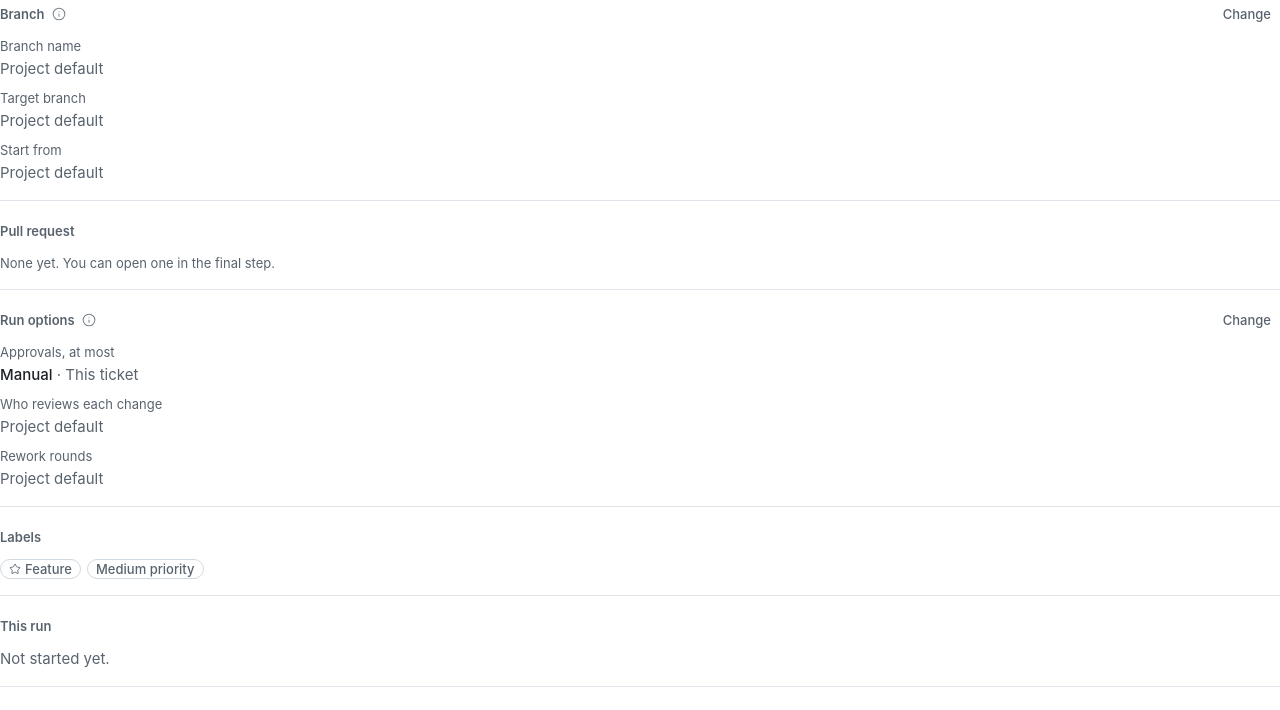
Test case: ticket page: Run options (RL-H) › changes them with PATCH: back to the project default is null
Click the button with aria-label "Change run options" at (1247, 320), box [1214,306,1279,334]
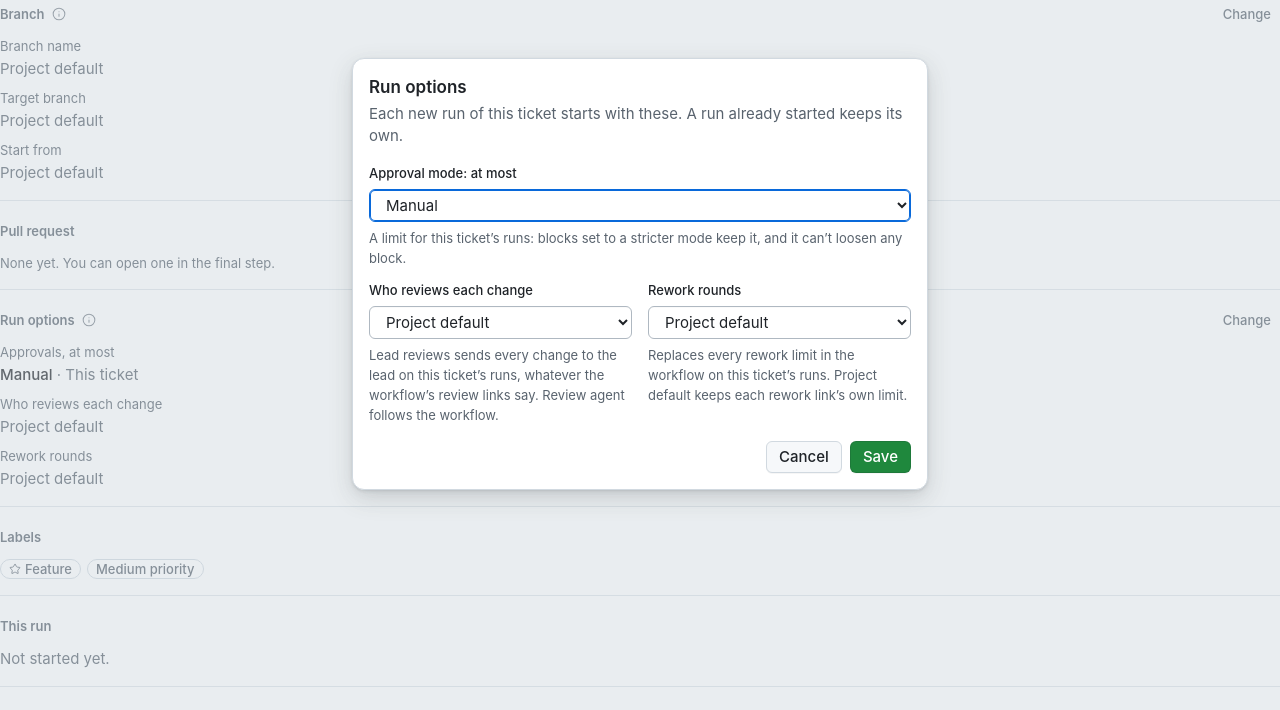
Expected: the dropdown labelled "Approval mode: at most" shows "Manual"
Select "No limit: each block’s own mode" in the dropdown labelled "Approval mode: at most" at (640, 205), box [369,189,911,222]
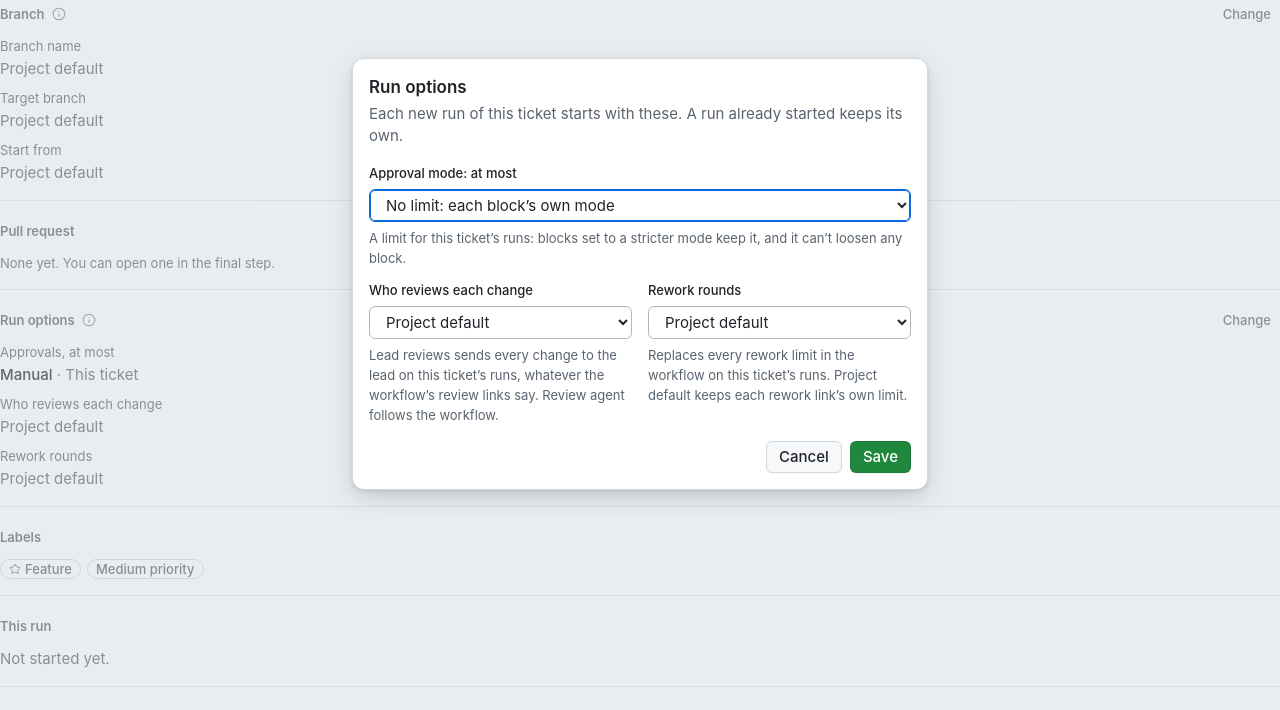
Select "3 rework rounds" in the dropdown labelled "Rework rounds" at (780, 322), box [648,306,911,339]
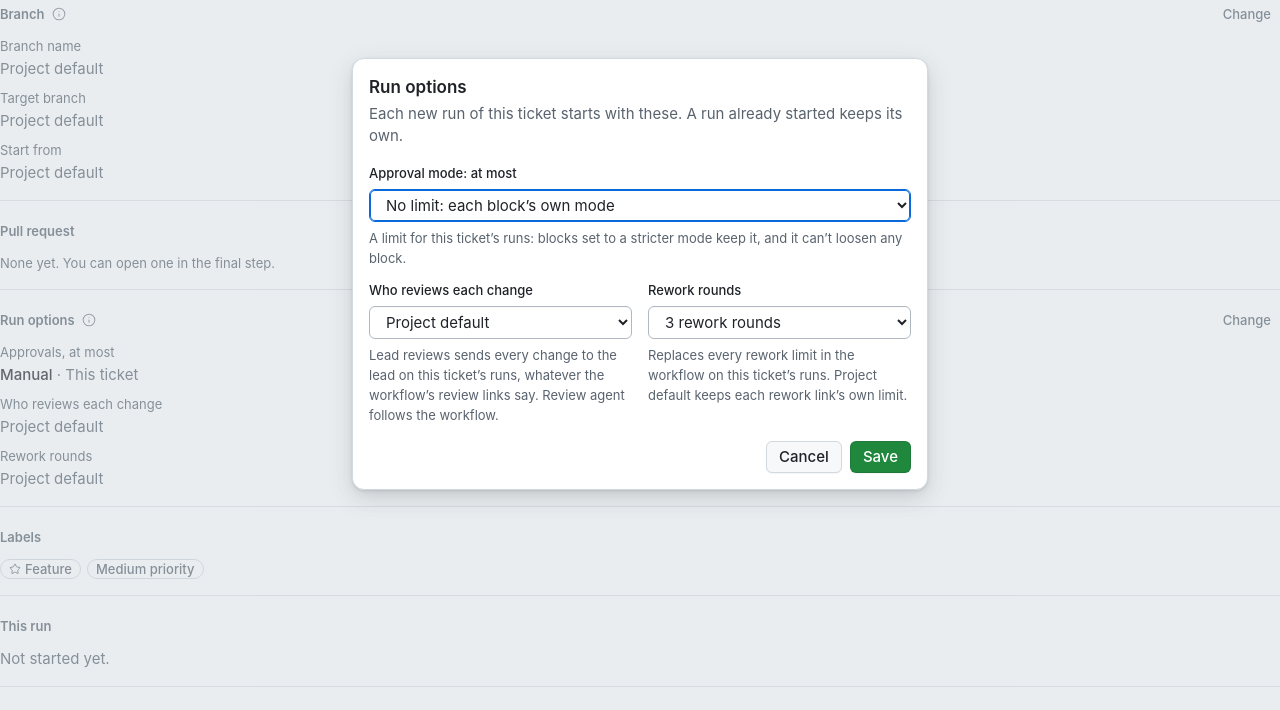
Click the button "Save" at (880, 457), box [850,441,911,473]
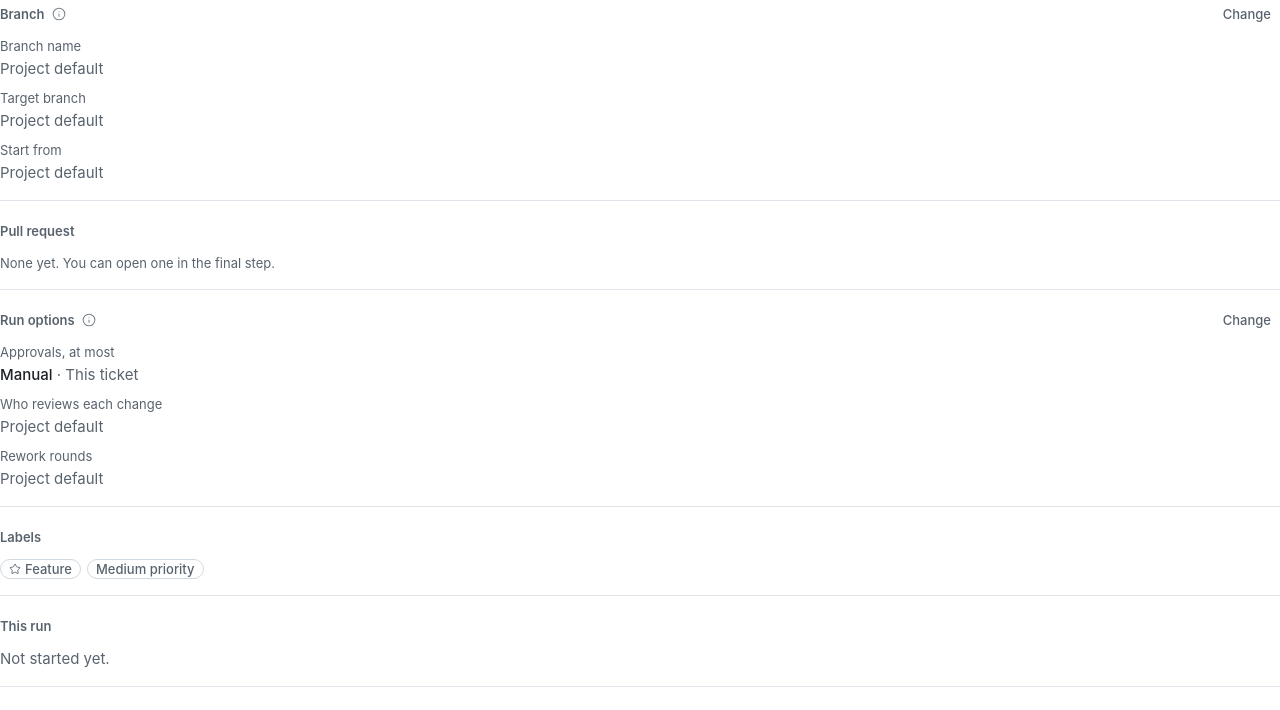
Expected: the dialog with test id "ticket-run-options-dialog" is gone
